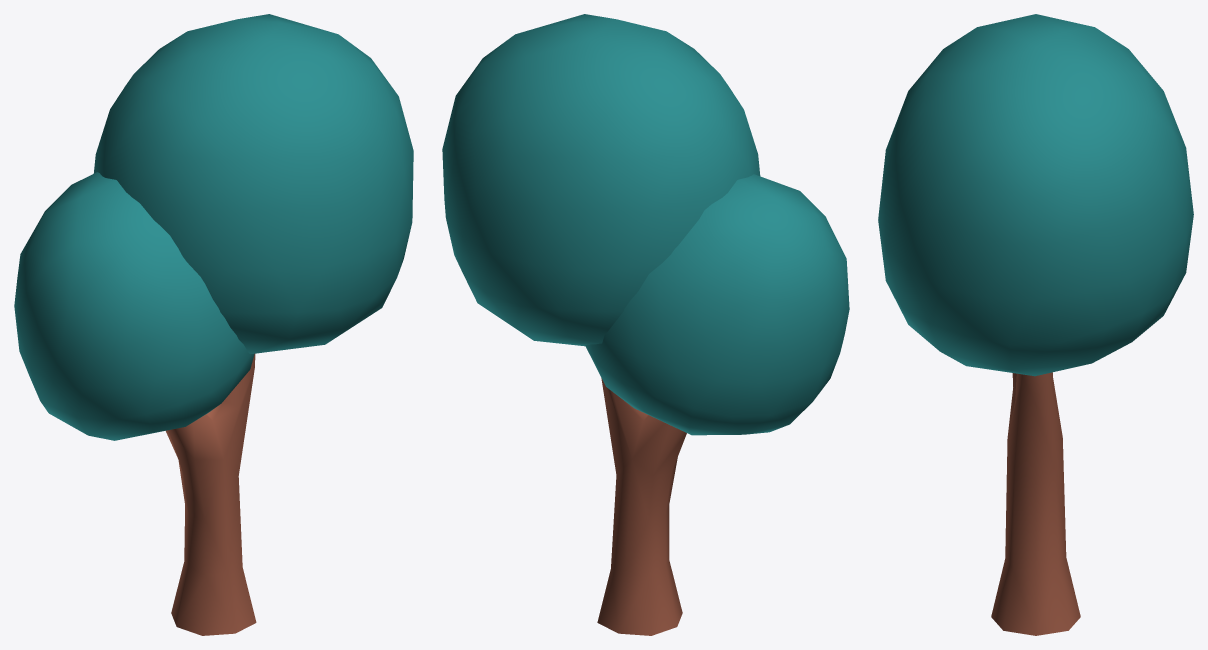
The model's file is detail_treeB.glb.
The picture shows the model from 3 angles, left to right: view 1: azimuth 30°, elevation 25°; view 2: azimuth 150°, elevation 25°; view 3: azimuth 270°, elevation 25°; orthographic projection. The views are drawn at different scales.
Parts seen in each view (by area): view 1: detail_treeB; view 2: detail_treeB; view 3: detail_treeB.
Boxes of the visible parts, x1=… form: detail_treeB: x1=14, y1=14, x2=413, y2=635; detail_treeB: x1=442, y1=14, x2=849, y2=635; detail_treeB: x1=878, y1=14, x2=1193, y2=635.
Size of the model in its own units: 0.4867 by 0.7268 by 0.3439.
